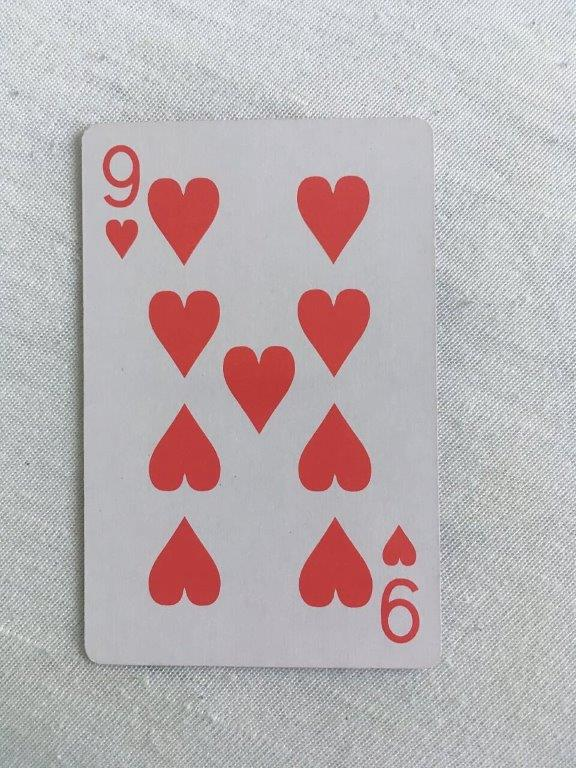9H: (77, 114, 448, 672)
